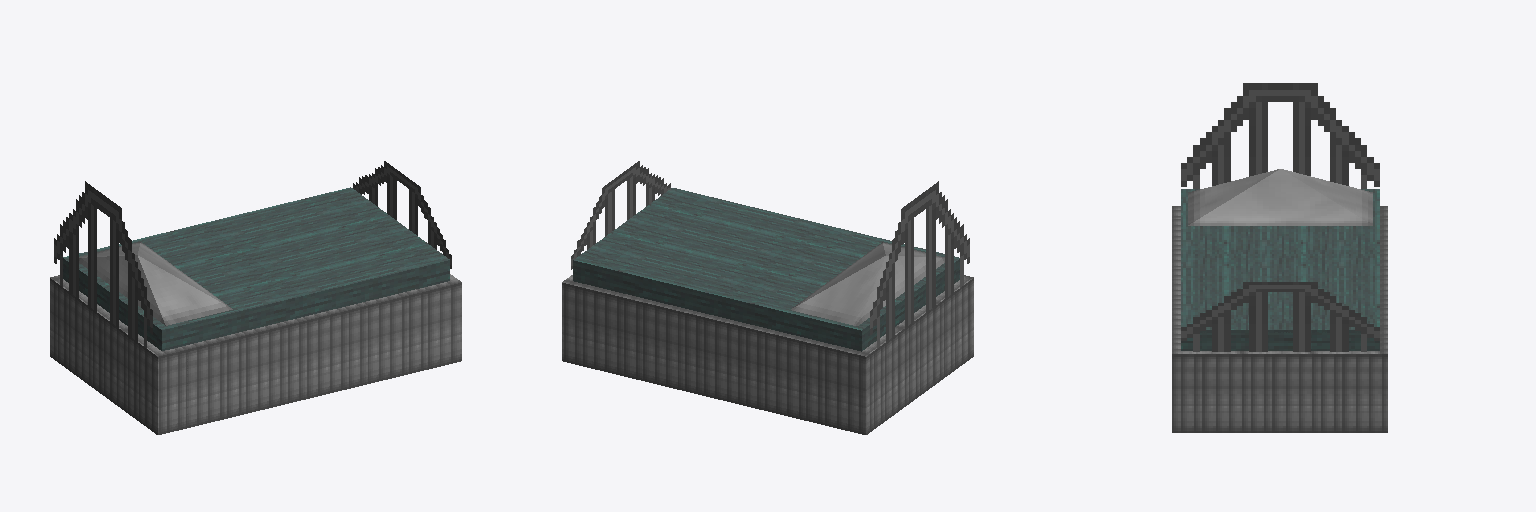
3 renders of one model, left to right at view 1: azimuth 30°, elevation 25°; view 2: azimuth 150°, elevation 25°; view 3: azimuth 270°, elevation 25°, orthographic.
Visible parts, largest first — view 1: bed2; view 2: bed2; view 3: bed2.
Boxes of the visible parts, box(x1,y1,x2,y2) form: bed2: box(50, 161, 461, 434); bed2: box(562, 161, 973, 434); bed2: box(1172, 83, 1387, 432).
Size of the model in its own units: 4.59 by 2.96 by 2.82.
4 materials, 4 textured.